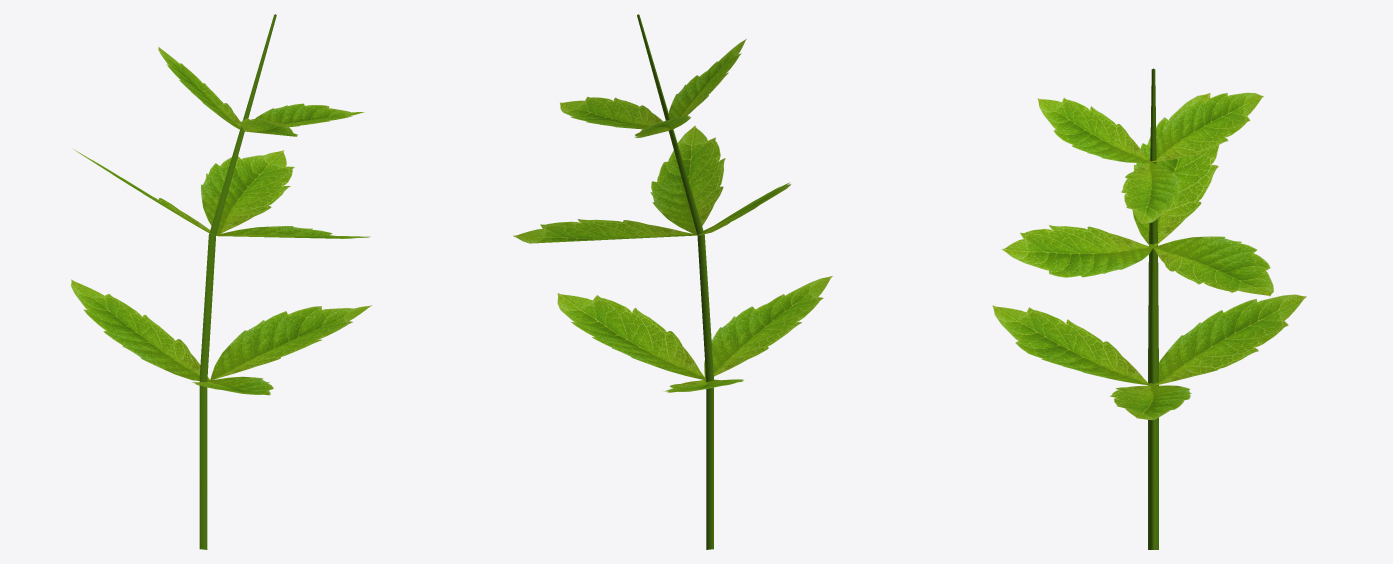
Rendered from wallGrass.glb.
The picture shows the model from 3 angles, left to right: view 1: azimuth 30°, elevation 25°; view 2: azimuth 150°, elevation 25°; view 3: azimuth 270°, elevation 25°; orthographic projection.
Parts seen in each view (by area): view 1: Indigo; view 2: Indigo; view 3: Indigo.
Boxes of the visible parts, box(x1,y1,x2,y2) form: Indigo: box(71, 14, 372, 549); Indigo: box(513, 14, 832, 549); Indigo: box(992, 68, 1306, 549).
Size of the model in its own units: 0.5584 by 0.7057 by 0.5589.
Materials: 2 (1 with a texture image).
